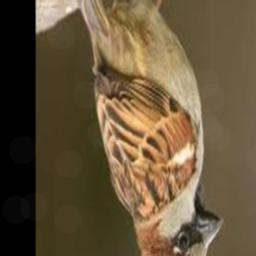Sparrow: (64, 0, 224, 256)
